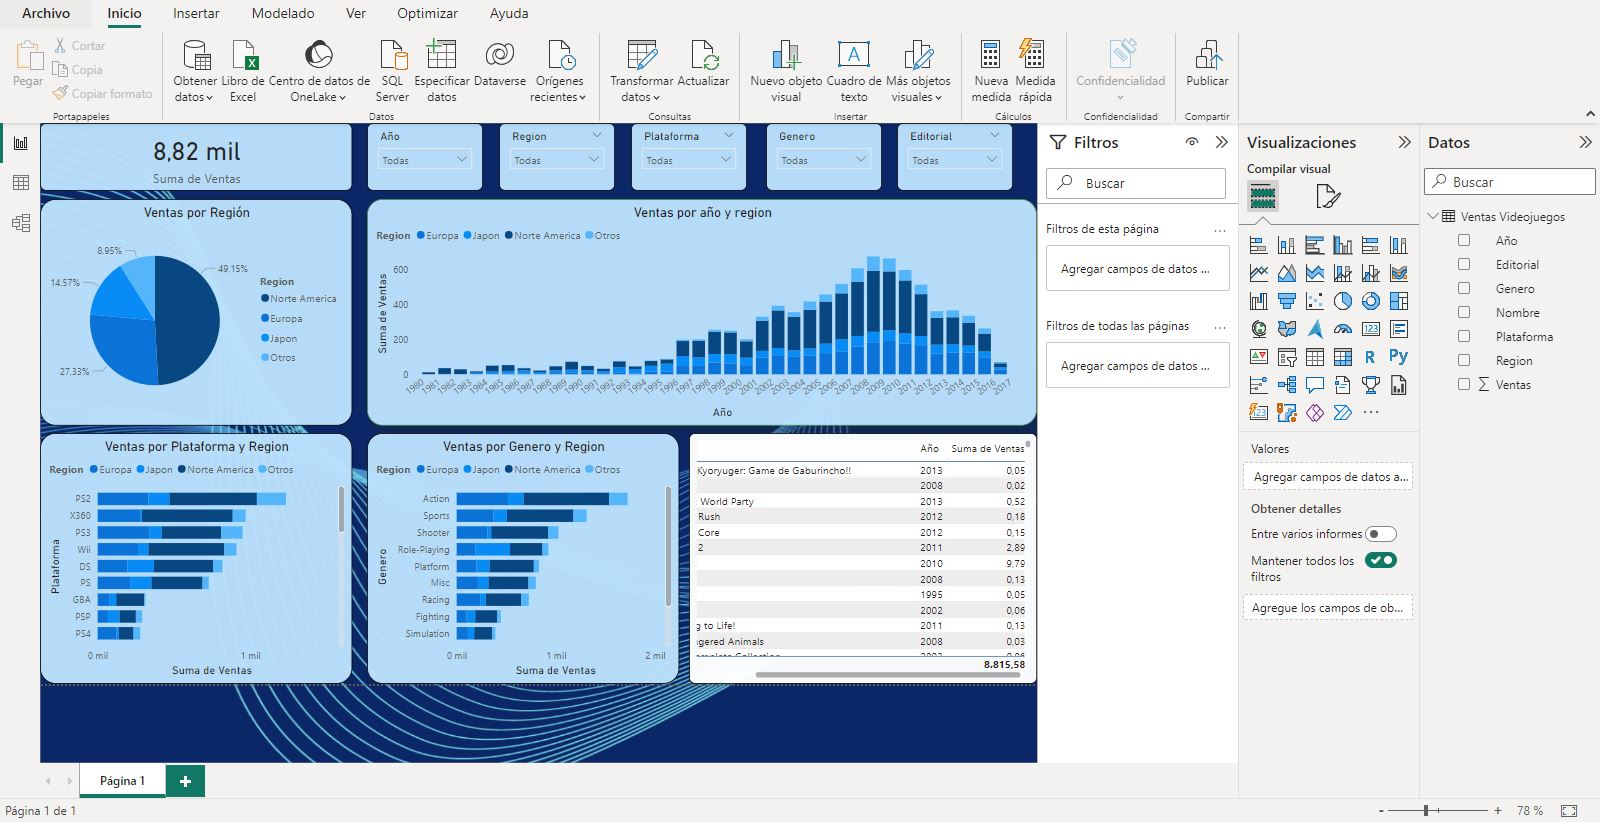

Layout of this report page (visuals, bound fields, positions):
{"tool":"powerbi","page":{"name":"Página 1","canvas":[1280,720],"ordinal":0},"visuals":[{"type":"columnChart","title":"Ventas por año y region","fields":{"Category":["Ventas Videojuegos.Año"],"Y":["Sum(Ventas Videojuegos.Ventas)"],"Series":["Ventas Videojuegos.Region"]},"box":[419.8,97.6,860.2,291.4],"z":0},{"type":"pieChart","title":"Ventas por Región","fields":{"Category":["Ventas Videojuegos.Region"],"Y":["Sum(Ventas Videojuegos.Ventas)"]},"box":[0,97.6,400.6,291.4],"z":1000},{"type":"card","fields":{"Values":["Sum(Ventas Videojuegos.Ventas)"]},"box":[0,0,400.6,87.3],"z":2000},{"type":"slicer","fields":{"Values":["Ventas Videojuegos.Año"]},"box":[419.8,0,148.9,87.3],"z":3000},{"type":"slicer","fields":{"Values":["Ventas Videojuegos.Region"]},"box":[589.3,0,148.9,87.3],"z":4000},{"type":"slicer","fields":{"Values":["Ventas Videojuegos.Plataforma"]},"box":[758.8,0,148.9,87.3],"z":5000},{"type":"slicer","fields":{"Values":["Ventas Videojuegos.Genero"]},"box":[932.1,0,148.9,87.3],"z":6000},{"type":"slicer","fields":{"Values":["Ventas Videojuegos.Editorial"]},"box":[1100.3,0,148.9,87.3],"z":7000},{"type":"barChart","title":"Ventas por Plataforma y Region","fields":{"Category":["Ventas Videojuegos.Plataforma"],"Series":["Ventas Videojuegos.Region"],"Y":["Sum(Ventas Videojuegos.Ventas)"]},"box":[0,398,400.6,322.2],"z":8000},{"type":"barChart","title":"Ventas por Genero y Region","fields":{"Series":["Ventas Videojuegos.Region"],"Y":["Sum(Ventas Videojuegos.Ventas)"],"Category":["Ventas Videojuegos.Genero"]},"box":[419.8,398,400.6,322.2],"z":9000},{"type":"tableEx","fields":{"Values":["Ventas Videojuegos.Nombre","Ventas Videojuegos.Año","Sum(Ventas Videojuegos.Ventas)"]},"box":[833.2,398,446.8,322.2],"z":10000}]}

Visuals, with their boxes on the page's 1280x720 design canvas (x1, y1, x2, y2). These are canvas units, not pixel positions in the 1600x822 screenshot, which may show the page scaled, cropped or inside an application window:
"Ventas por año y region" columnChart: box=[420, 98, 1280, 389]
"Ventas por Región" pieChart: box=[0, 98, 401, 389]
card - Sum(Ventas Videojuegos.Ventas): box=[0, 0, 401, 87]
slicer - Ventas Videojuegos.Año: box=[420, 0, 569, 87]
slicer - Ventas Videojuegos.Region: box=[589, 0, 738, 87]
slicer - Ventas Videojuegos.Plataforma: box=[759, 0, 908, 87]
slicer - Ventas Videojuegos.Genero: box=[932, 0, 1081, 87]
slicer - Ventas Videojuegos.Editorial: box=[1100, 0, 1249, 87]
"Ventas por Plataforma y Region" barChart: box=[0, 398, 401, 720]
"Ventas por Genero y Region" barChart: box=[420, 398, 820, 720]
tableEx - Ventas Videojuegos.Nombre x Ventas Videojuegos.Año: box=[833, 398, 1280, 720]
